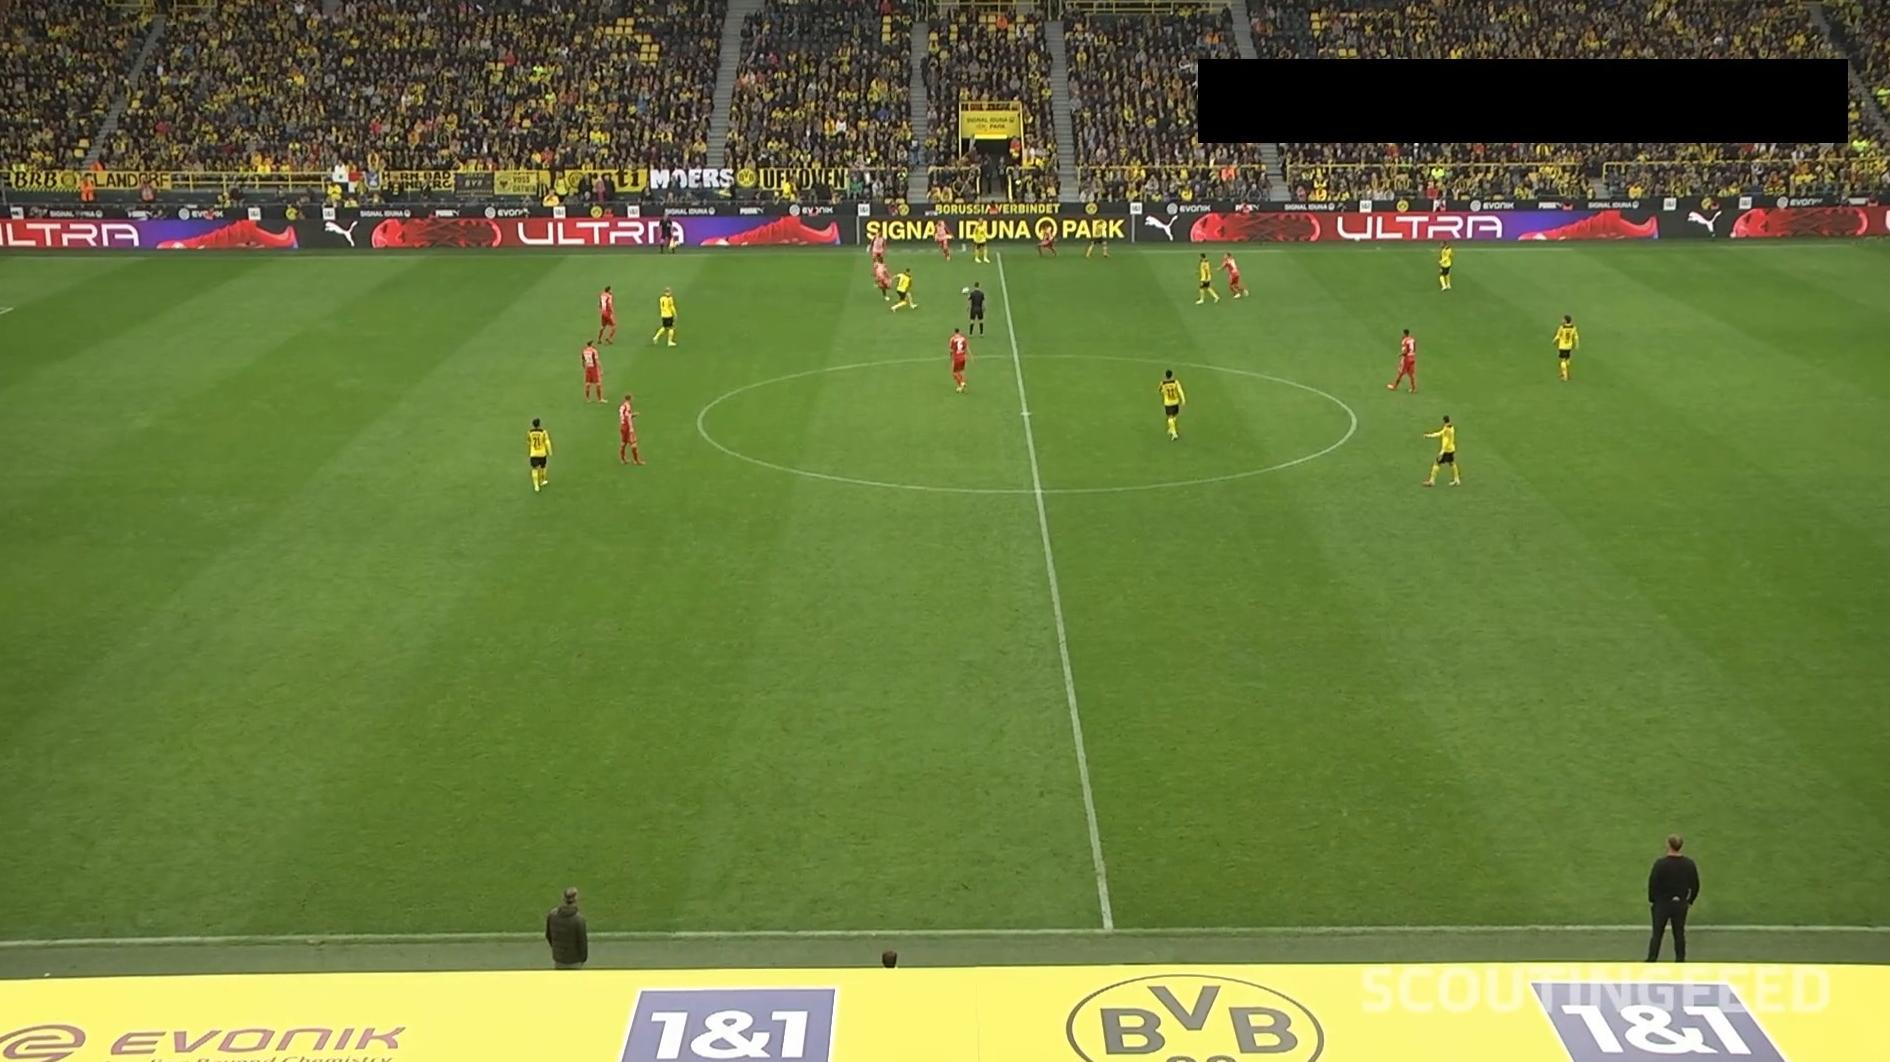ball: (959, 286, 971, 296)
